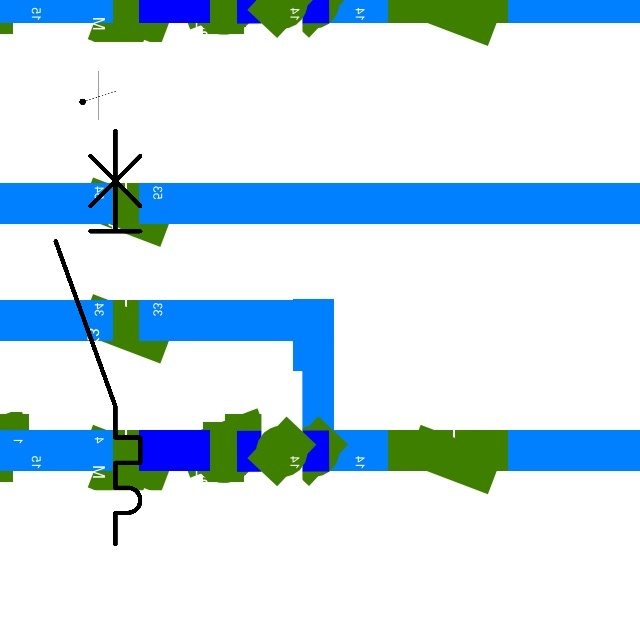interruptor_termomagnetico: (45, 120, 151, 555)
